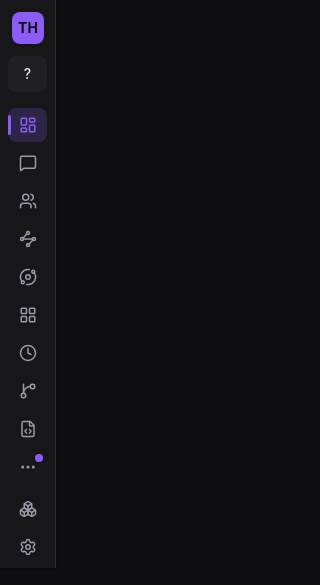
offers the group as a labelled keyboard menu in the icon-only rail
The width and height of the screenshot is (320, 585).
Click the button named "More": (28, 467) [8,450,47,484]
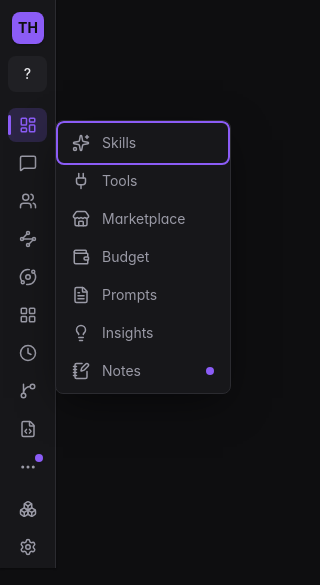
Press ArrowDown in the menu item "Skills", box [60,125,226,161]
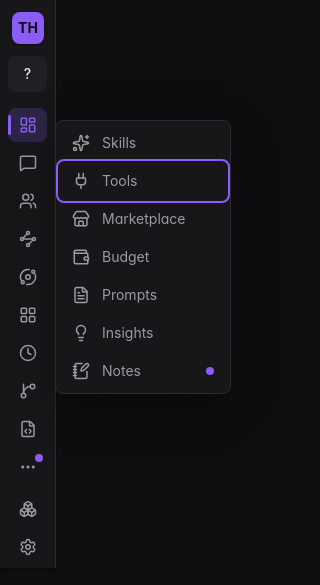
Press End in the menu item "Tools", box [60,163,226,199]
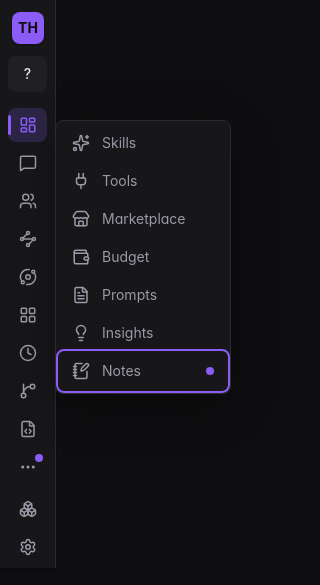
Press Escape in the menu item "Notes", box [60,353,226,389]
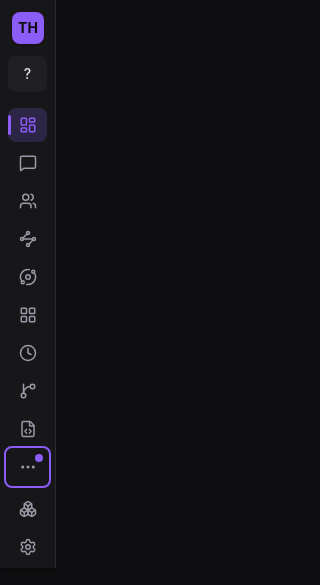
Now the menu is gone
Click the button named "More": (28, 467) [8,450,47,484]
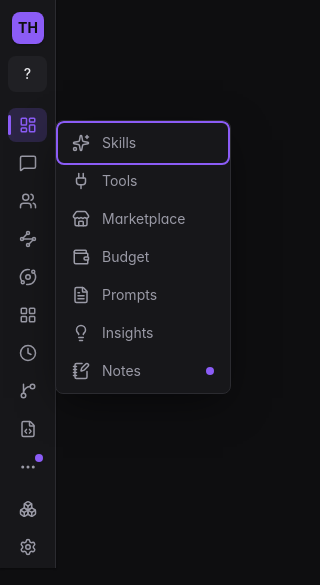
Click the menu item "Marketplace": (143, 219) [60,201,226,237]
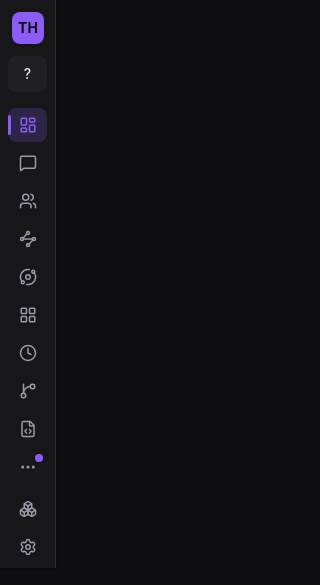
Now the menu is gone
